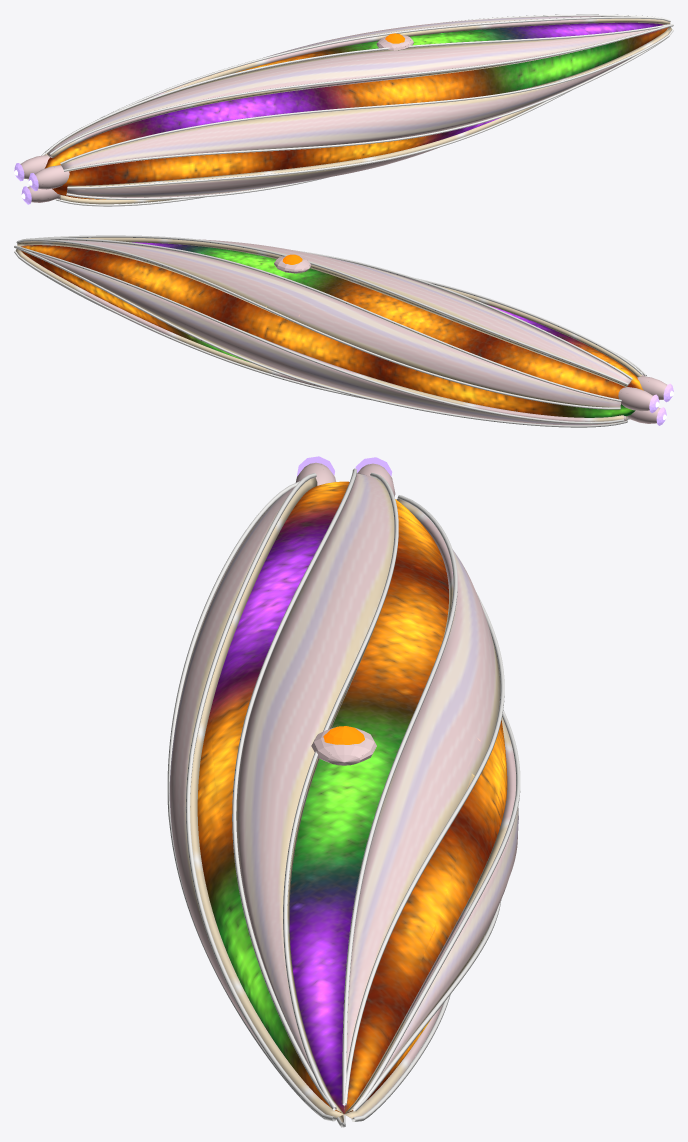
The model's file is ithar_GF1.gltf.
The picture shows the model from 3 angles, top to bottom: view 1: azimuth 30°, elevation 25°; view 2: azimuth 150°, elevation 25°; view 3: azimuth 270°, elevation 25°; orthographic projection. The views are drawn at different scales.
Visible parts, largest first — view 1: ithar_GF1; view 2: ithar_GF1; view 3: ithar_GF1.
Part boxes in pixels (x1,y1,x2,y2): ithar_GF1: (14,14,673,206); ithar_GF1: (14,235,673,427); ithar_GF1: (167,456,520,1127).
Bounding box in the file's own units: 1 × 0.1661 × 0.2352.
Materials: 5 (2 with a texture image).
